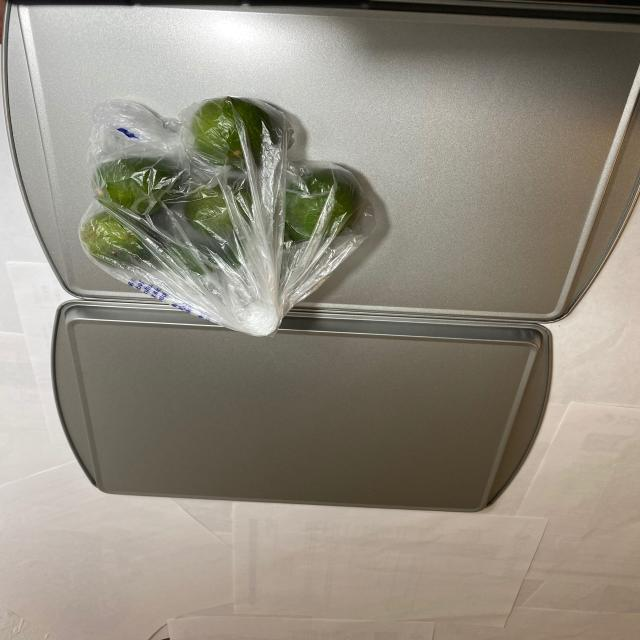lemon: (79, 101, 365, 302)
